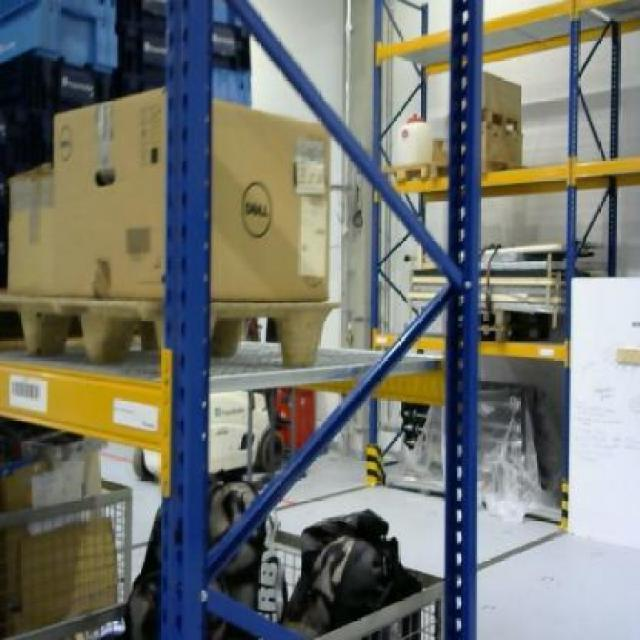box: (49, 87, 329, 300), (6, 168, 52, 297), (480, 68, 526, 117), (480, 124, 522, 167)
